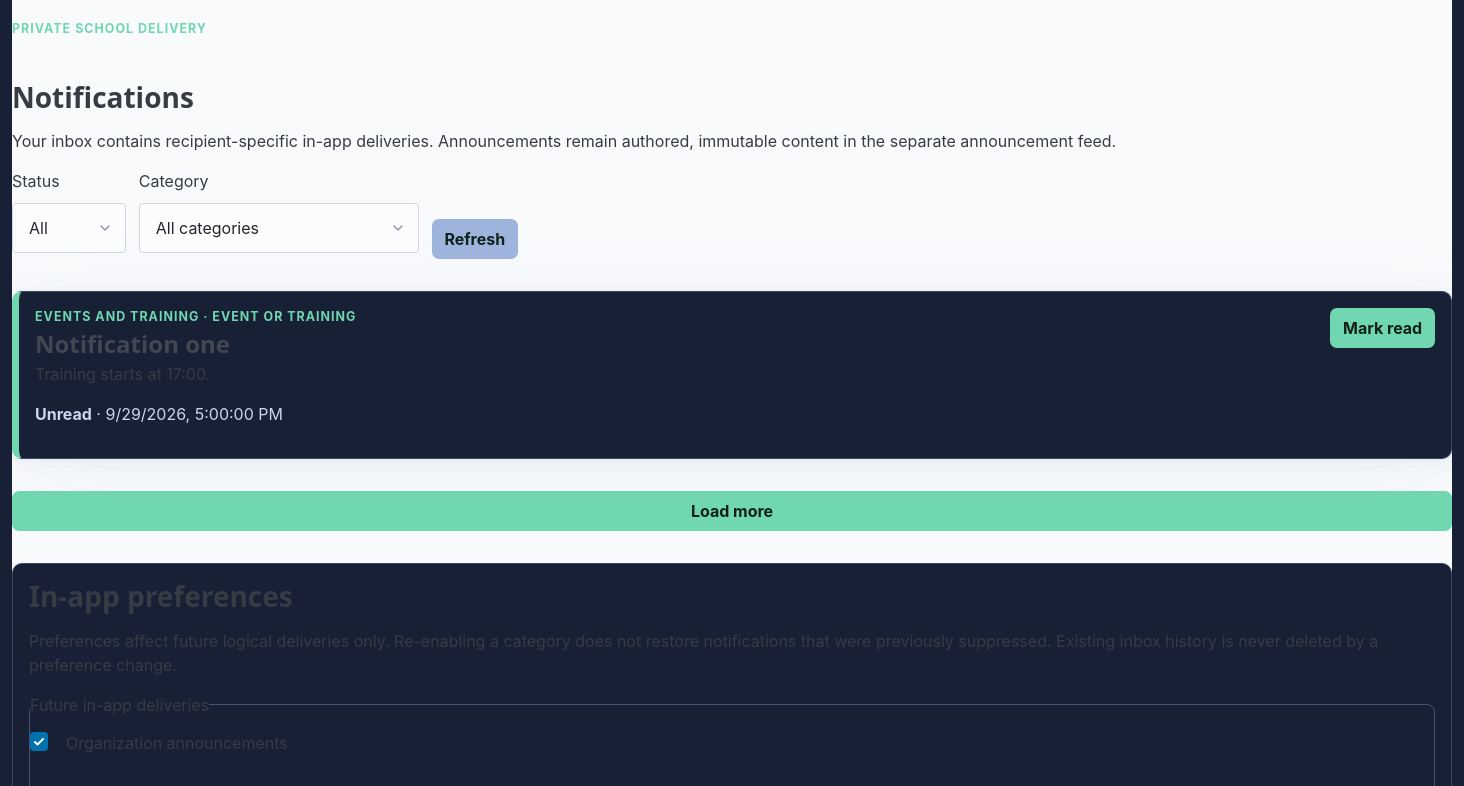
Test case: shared organization notification inbox › uses bounded category/unread pagination and appends the next page
Select "Events and training" in the dropdown with test id "notification-category-filter" at (279, 228), box [139,202,419,252]
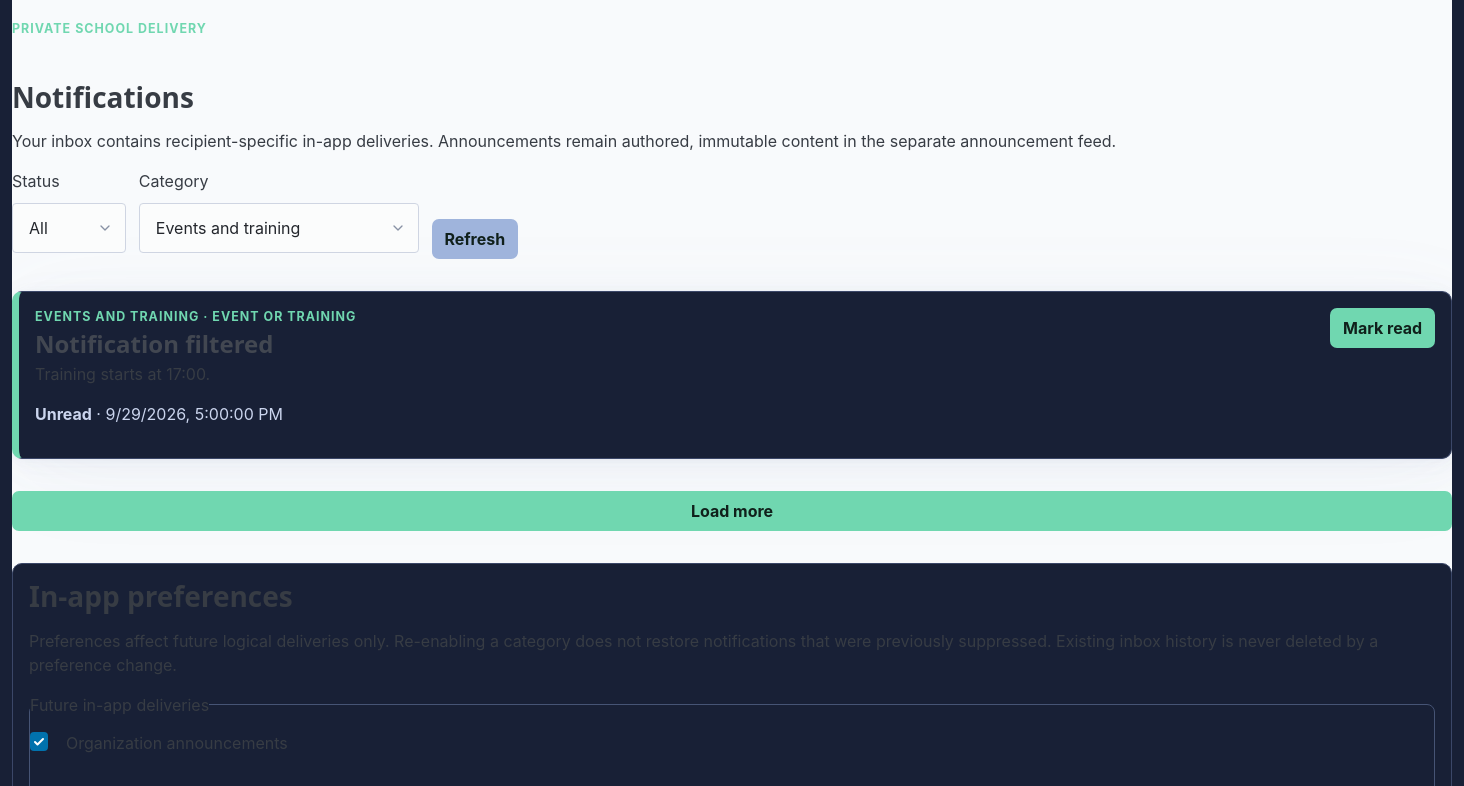
Click the button with test id "load-more-notifications" at (732, 511), box [12,491,1452,531]
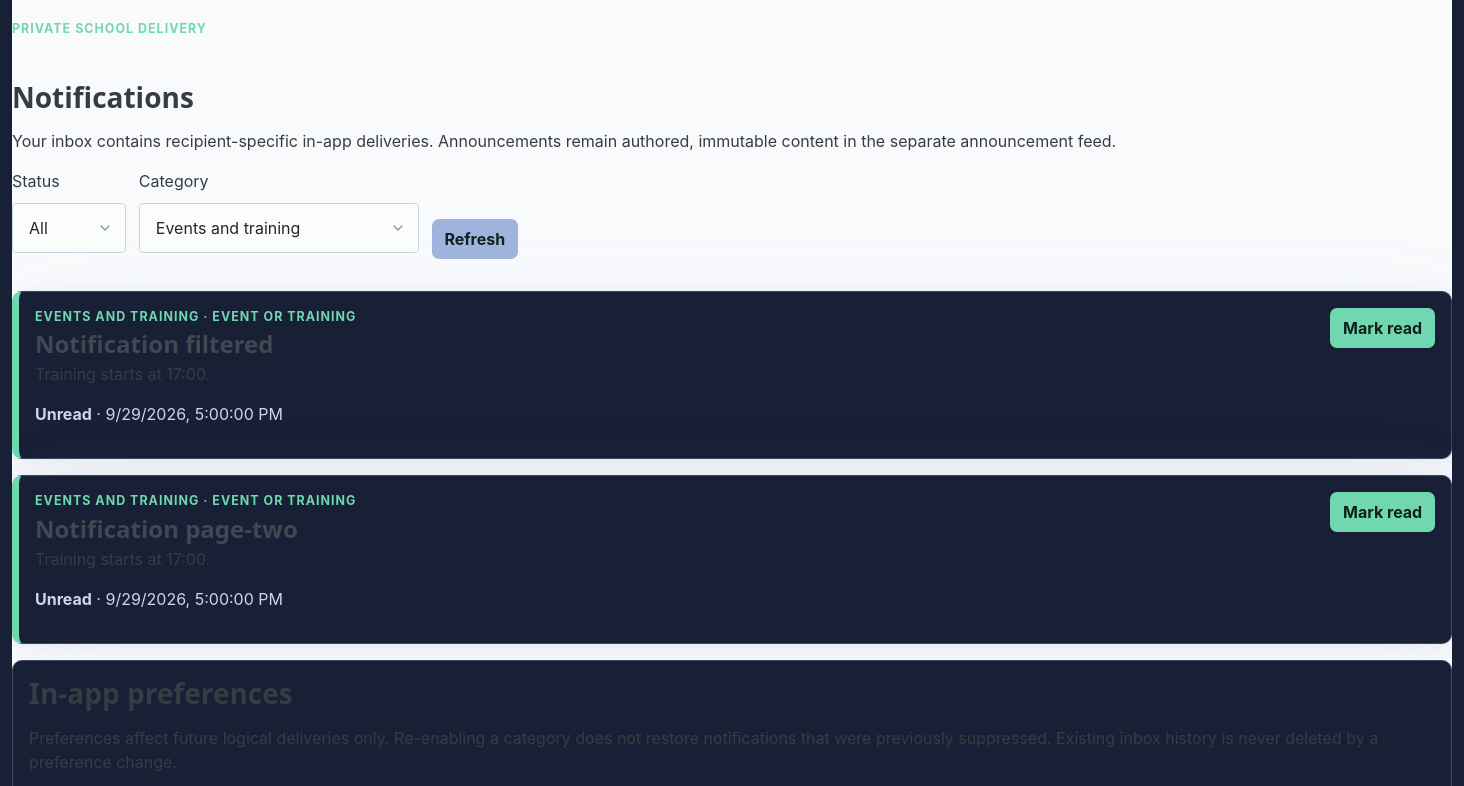
Now the text "Notification filtered" is shown, box [35,327,274,360]
Now the text "Notification page-two" is shown, box [35,512,298,545]
